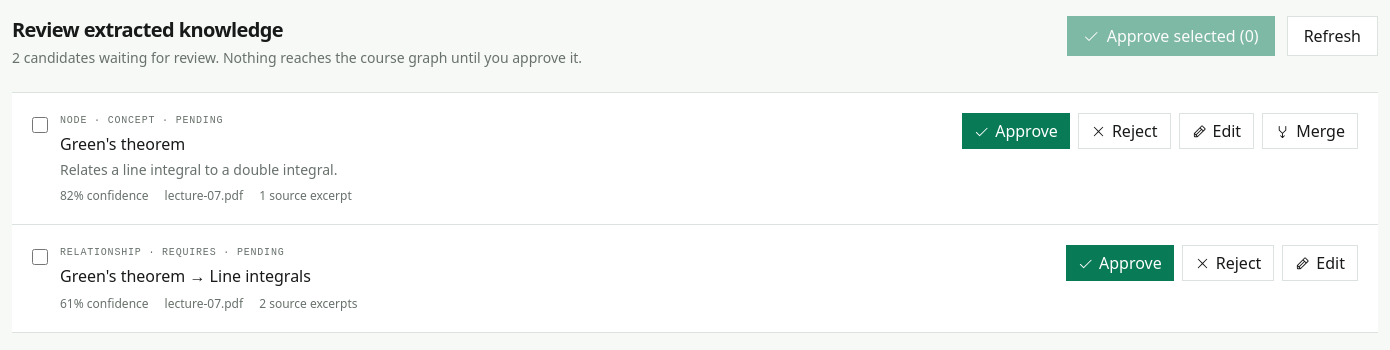
Test: GraphReview › rejects a candidate
This screenshot has width=1390, height=350.
What coordinates should you click on to do the following:
click the button "Reject" in the row of "CONCEPT"
I would click on:
 (1124, 131)
Its box is [1078,113,1170,149].
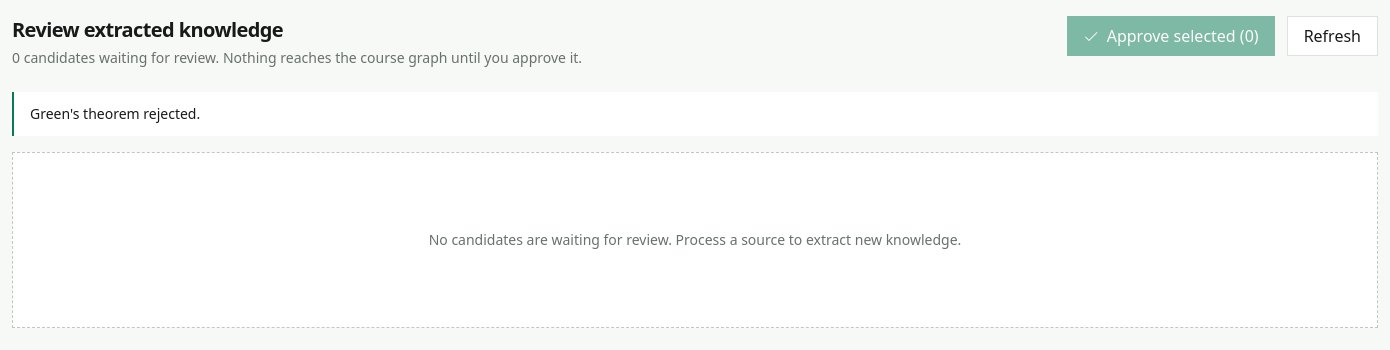
Expected: the message shows "rejected", [30,104,200,123]
